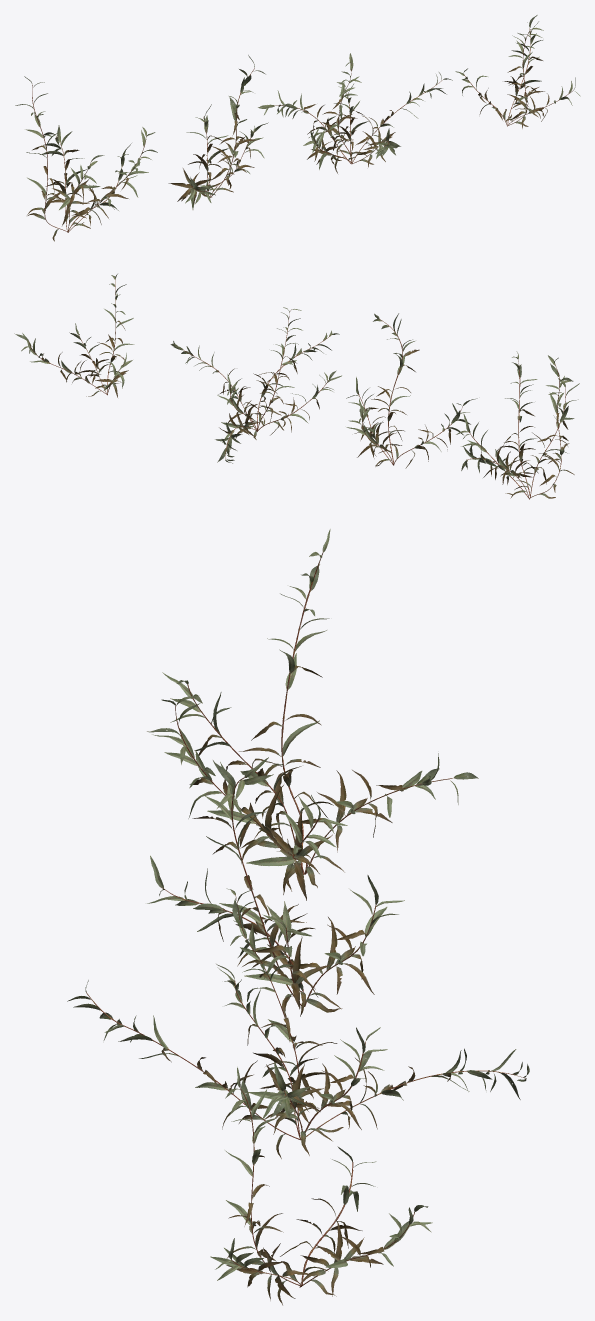
Rendered from shrub_02.glb.
3 views of the same model, one above another, from view 1: azimuth 30°, elevation 25°; view 2: azimuth 150°, elevation 25°; view 3: azimuth 270°, elevation 25° (orthographic). The views are drawn at different scales.
Visible parts, largest first — view 1: shrub_02_c, shrub_02_a, shrub_02_b, shrub_02_d; view 2: shrub_02_a, shrub_02_c, shrub_02_b, shrub_02_d; view 3: shrub_02_a, shrub_02_c, shrub_02_b, shrub_02_d.
Part boxes in pixels (box(x1,y1,x2,y2)): shrub_02_c: box(258, 53, 452, 173); shrub_02_a: box(15, 76, 157, 241); shrub_02_b: box(168, 55, 268, 209); shrub_02_d: box(455, 15, 580, 128); shrub_02_a: box(456, 351, 579, 499); shrub_02_c: box(170, 307, 341, 463); shrub_02_b: box(346, 313, 477, 468); shrub_02_d: box(14, 274, 134, 397); shrub_02_a: box(147, 529, 478, 900); shrub_02_c: box(67, 888, 529, 1158); shrub_02_b: box(147, 757, 404, 1018); shrub_02_d: box(210, 1067, 432, 1305).
Bounding box in the file's own units: 6.05 × 1.7 × 2.29.
1 material, 1 textured.
